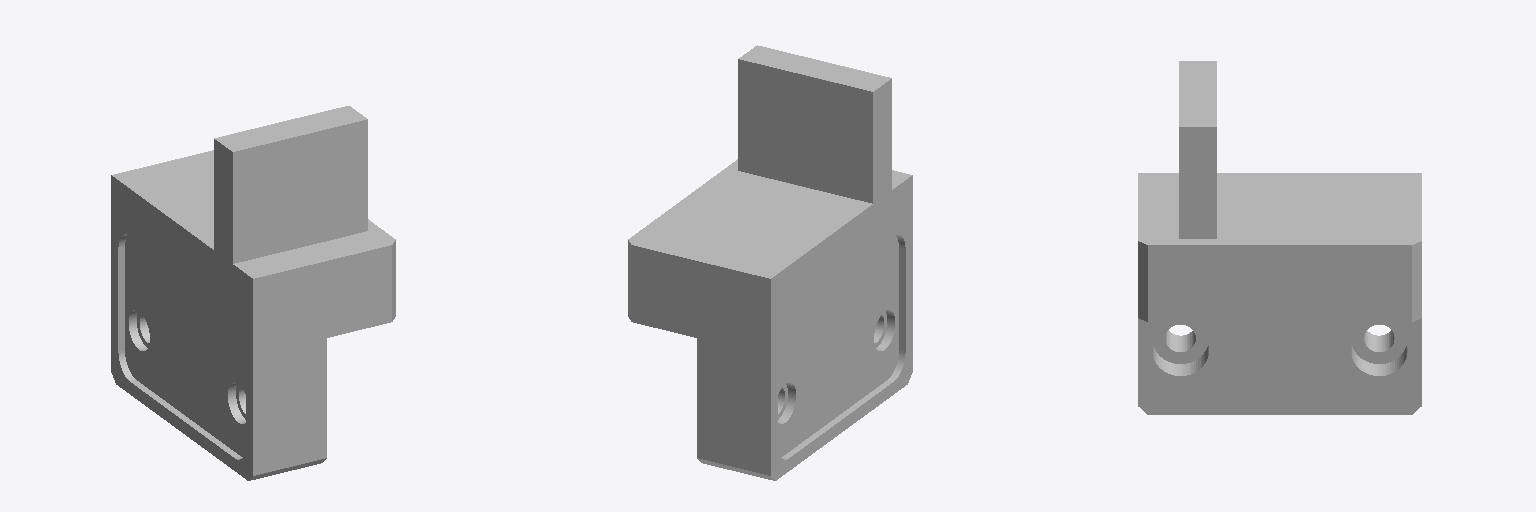
File: wsg50_110 v1_wsg50_110 v1_6_1_Body1_6.obj
3 renders of one model, left to right at view 1: azimuth 30°, elevation 25°; view 2: azimuth 150°, elevation 25°; view 3: azimuth 270°, elevation 25°, orthographic.
Parts seen in each view (by area): view 1: Body1; view 2: Body1; view 3: Body1.
Boxes of the visible parts, x1,y1,x2,y2 form: Body1: [111, 106, 395, 480]; Body1: [628, 45, 912, 480]; Body1: [1138, 61, 1421, 414].
Size of the model in its own units: 0.018 by 0.0371 by 0.03.